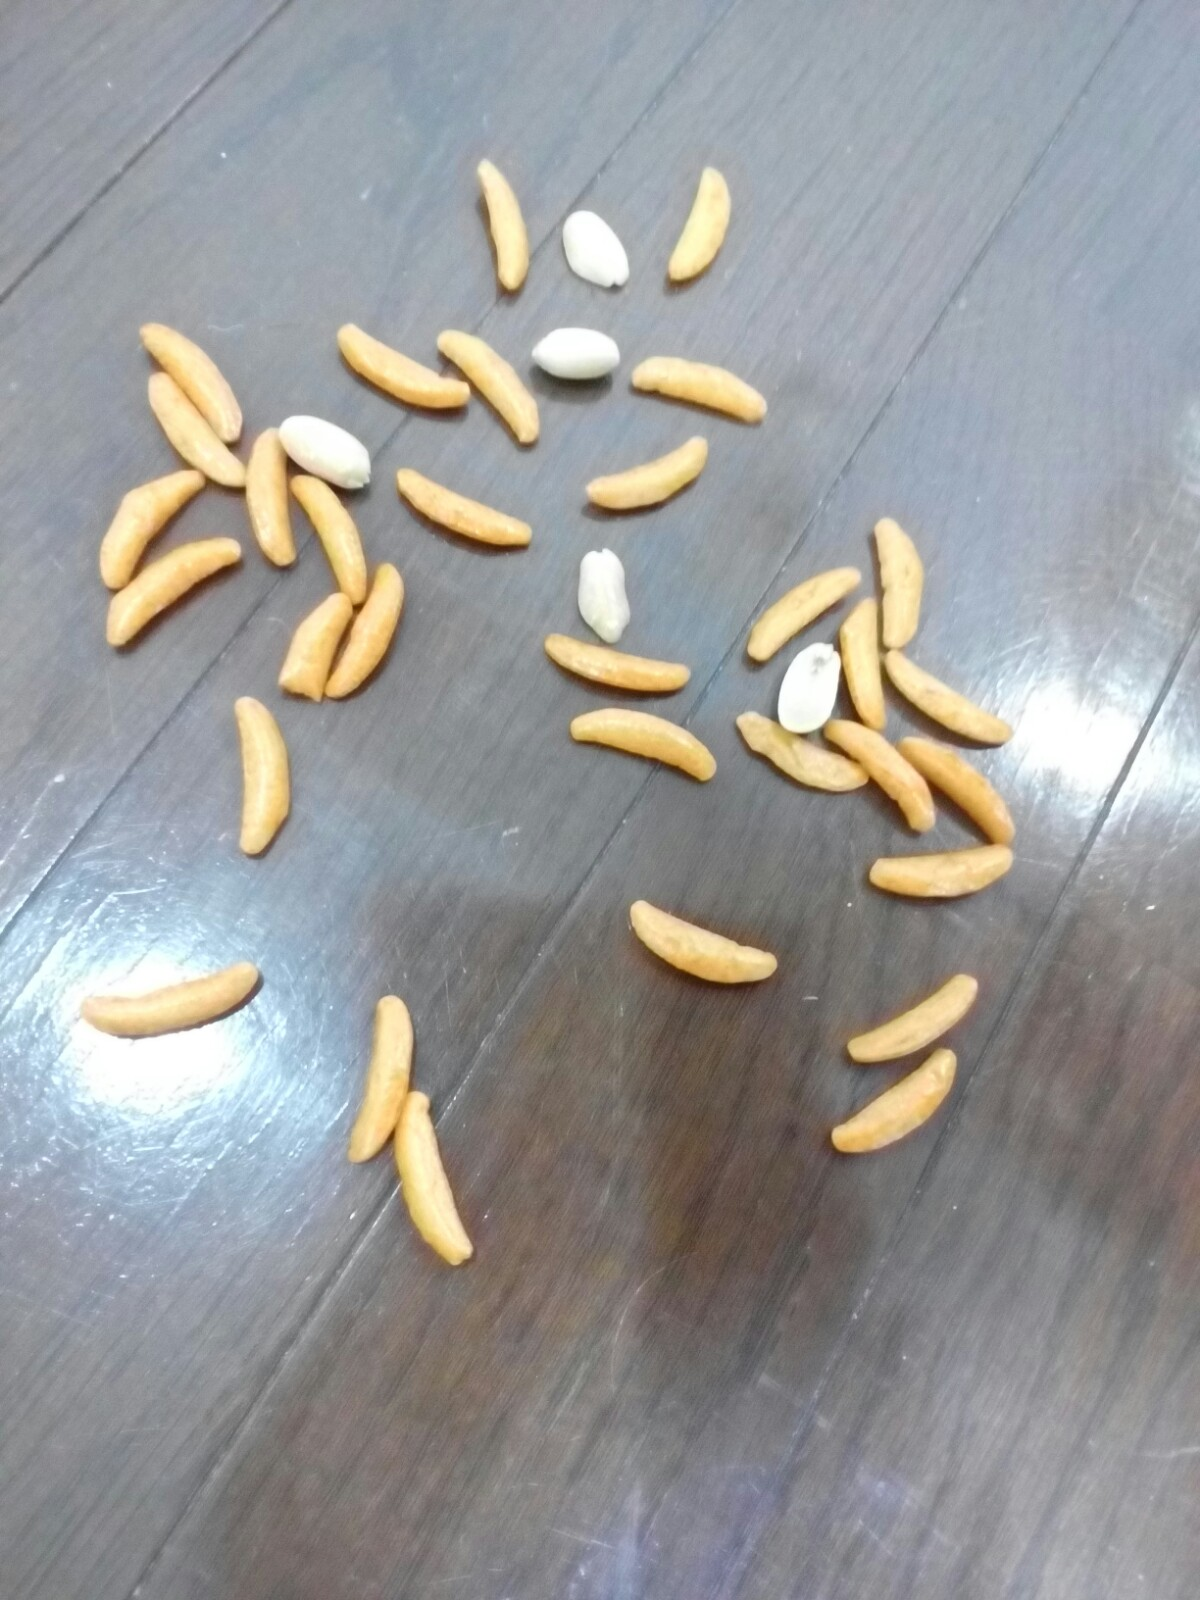peanut: (541, 193, 635, 294), (279, 406, 379, 499), (769, 637, 852, 742), (574, 533, 648, 644), (531, 319, 632, 389)
